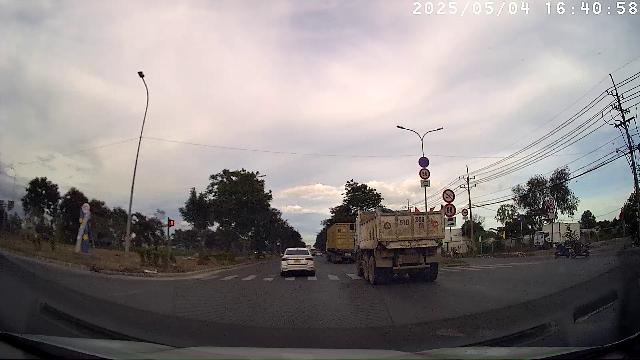127-toc-do-toi-da-60: (444, 204, 456, 217)
127-toc-do-toi-da-80: (419, 168, 430, 179)
